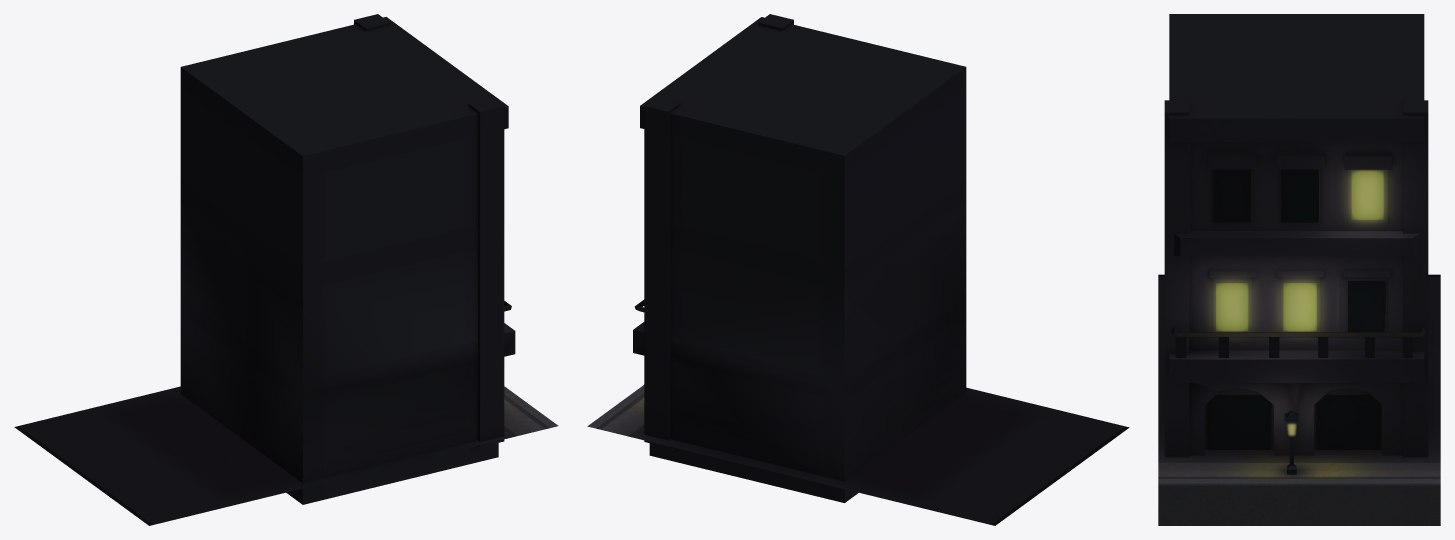
The picture shows the model from 3 angles, left to right: view 1: azimuth 30°, elevation 25°; view 2: azimuth 150°, elevation 25°; view 3: azimuth 270°, elevation 25°; orthographic projection. The views are drawn at different scales.
Parts seen in each view (by area): view 1: modelB001; view 2: modelB001; view 3: modelB001.
Boxes of the visible parts, bbox=[...] form: modelB001: bbox=[14, 14, 558, 525]; modelB001: bbox=[587, 14, 1129, 525]; modelB001: bbox=[1158, 14, 1440, 525].
Size of the model in its own units: 7 by 6.05 by 4.
1 material, 1 textured.
